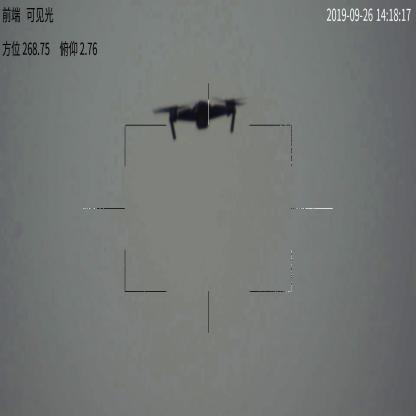uav: (148, 88, 252, 142)
